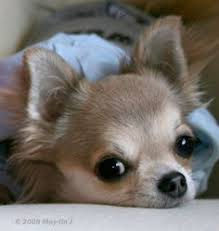chihuahua: (16, 13, 207, 229)
